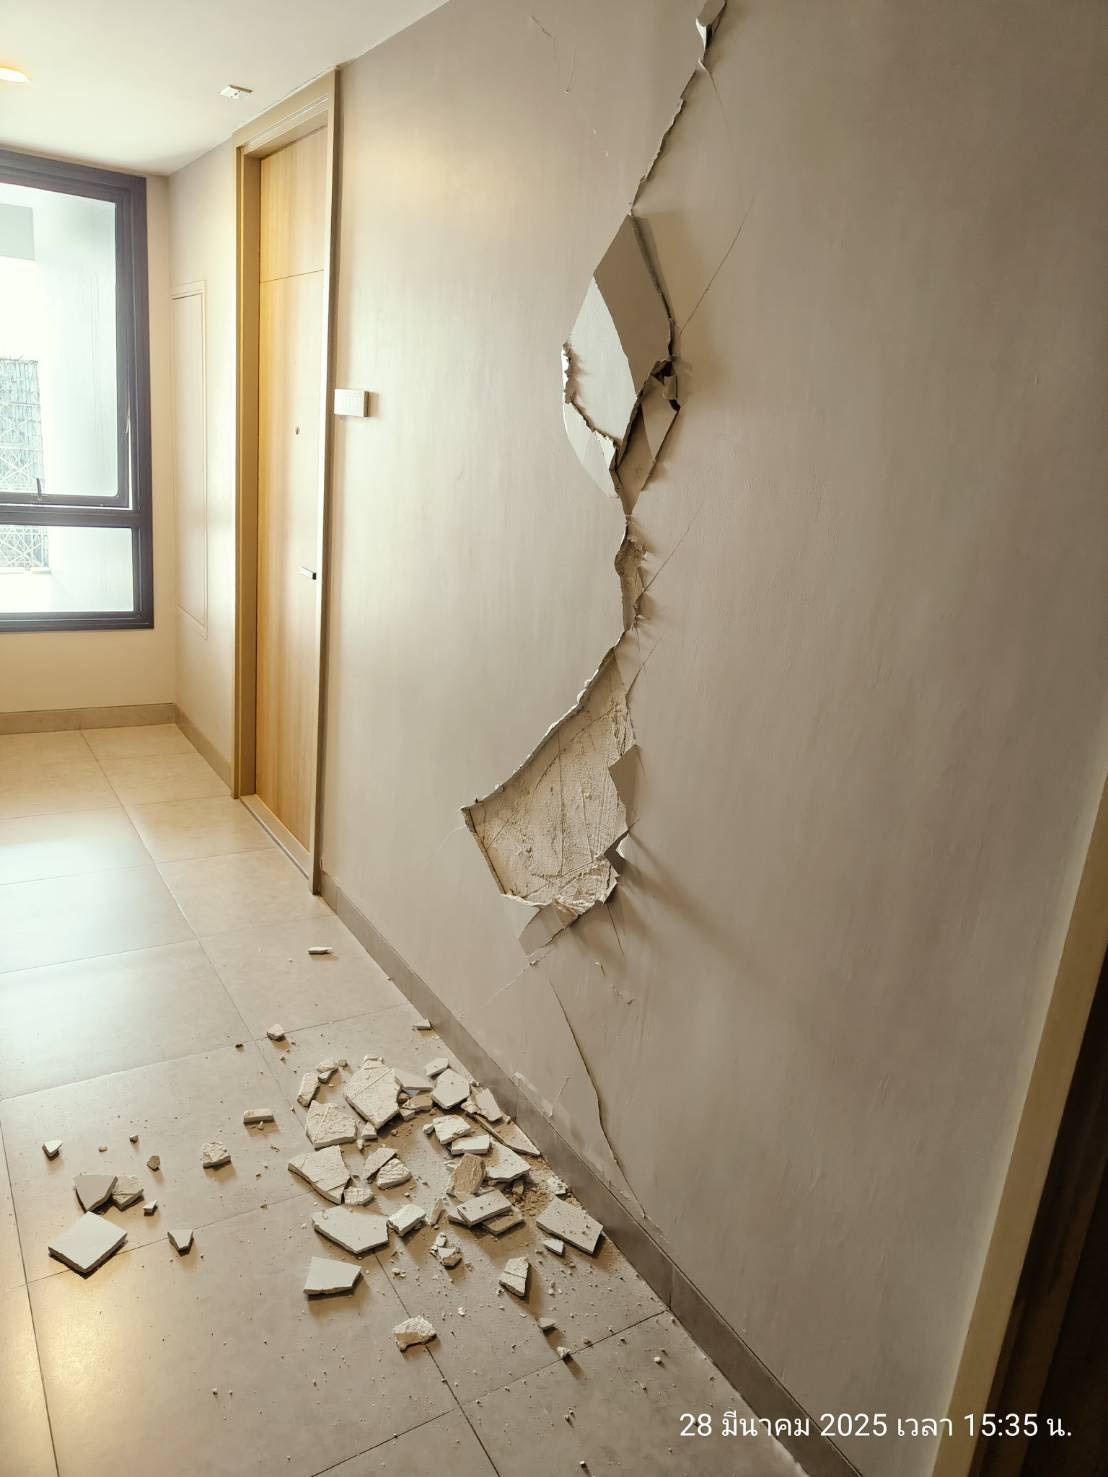Medium: (483, 21, 760, 995)
